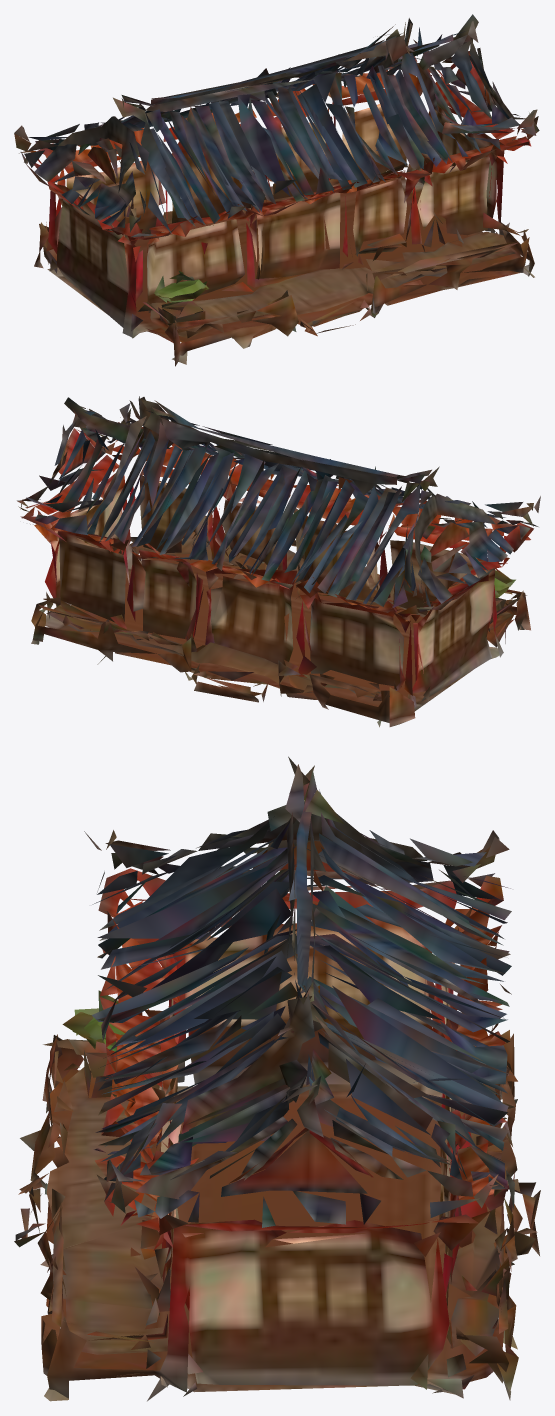
The model's file is casa_m_lod2.glb.
3 views of the same model, one above another, from view 1: azimuth 30°, elevation 25°; view 2: azimuth 150°, elevation 25°; view 3: azimuth 270°, elevation 25° (orthographic). The views are drawn at different scales.
Parts seen in each view (by area): view 1: casa_m; view 2: casa_m; view 3: casa_m.
Part boxes in pixels (left/top/right/bottom): casa_m: left=14, top=14, right=539, bottom=366; casa_m: left=17, top=396, right=540, bottom=727; casa_m: left=14, top=756, right=540, bottom=1401.
Size of the model in its own units: 9.97 by 4.96 by 6.36.
Materials: 1 (1 with a texture image).
